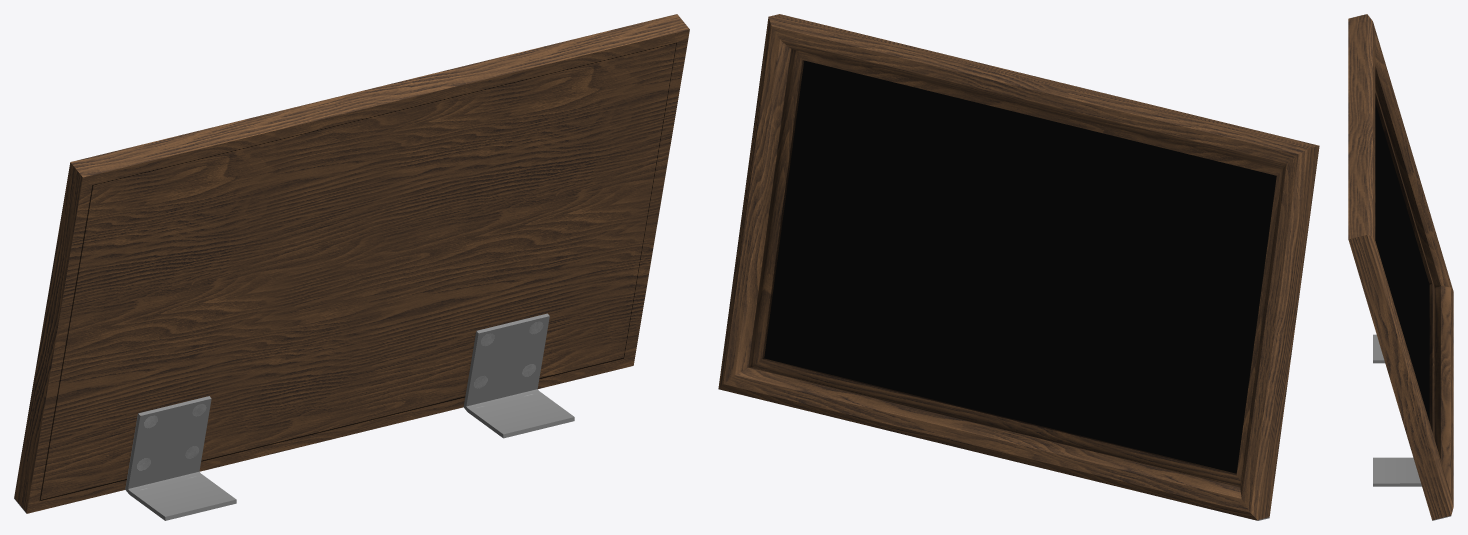
File: WoodPhotoFrame-LP.fbx
The picture shows the model from 3 angles, left to right: view 1: azimuth 30°, elevation 25°; view 2: azimuth 150°, elevation 25°; view 3: azimuth 270°, elevation 25°; orthographic projection. The views are drawn at different scales.
Parts seen in each view (by area): view 1: WoodPhotoFrame-LP; view 2: WoodPhotoFrame-LP; view 3: WoodPhotoFrame-LP.
Part boxes in pixels (left/top/right/bottom): WoodPhotoFrame-LP: left=14, top=14, right=689, bottom=520; WoodPhotoFrame-LP: left=718, top=14, right=1319, bottom=520; WoodPhotoFrame-LP: left=1348, top=14, right=1453, bottom=520.
Bounding box in the file's own units: 31.33 × 19.03 × 6.31.
2 materials, 1 textured.
